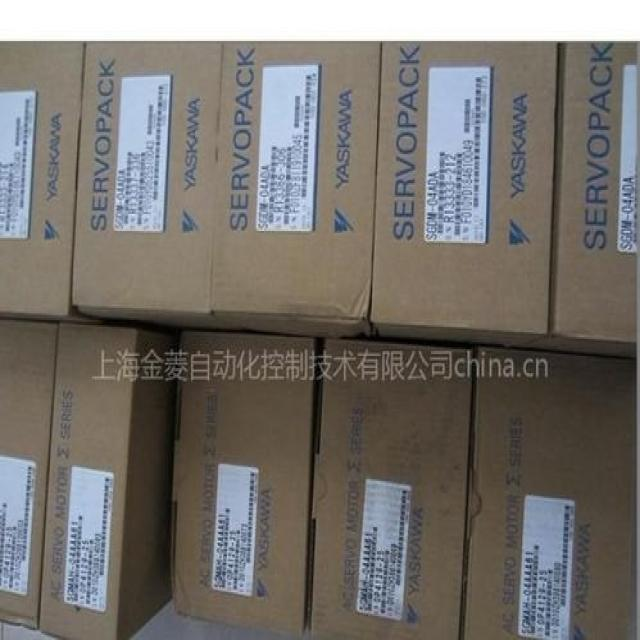Carton: (73, 39, 558, 323), (464, 347, 636, 638), (309, 341, 468, 638), (0, 317, 139, 638), (171, 335, 316, 637), (552, 38, 639, 341)
